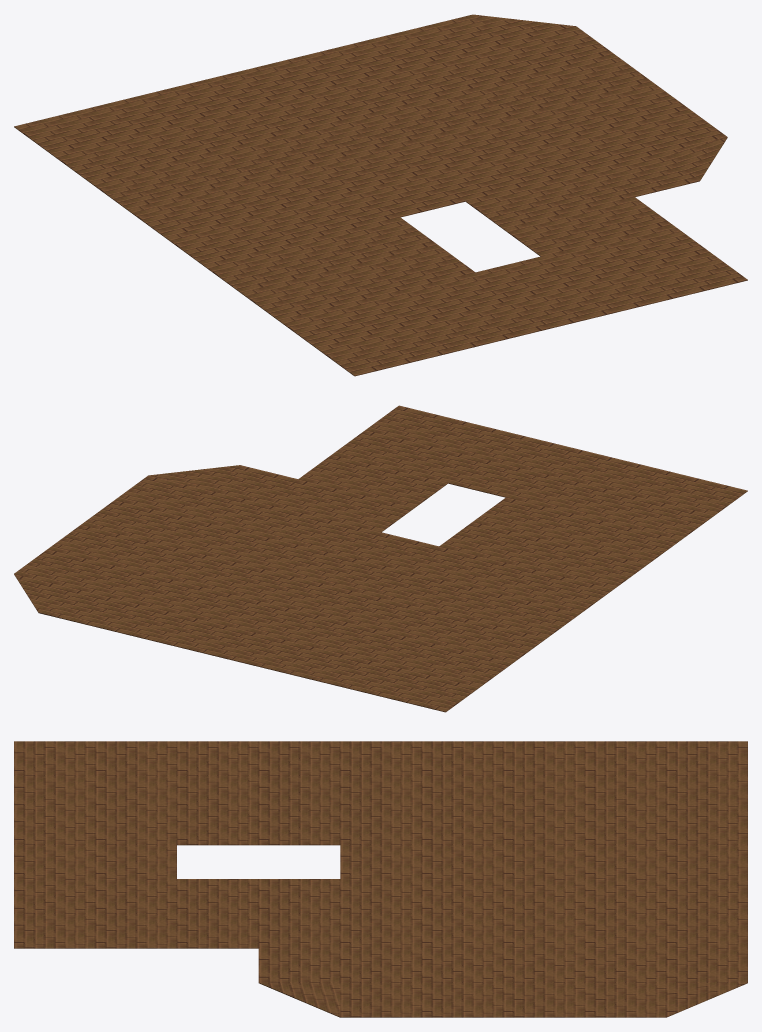
File: SM_TutorialIsland_A_F2.fbx
3 renders of one model, top to bottom at view 1: azimuth 30°, elevation 25°; view 2: azimuth 150°, elevation 25°; view 3: azimuth 270°, elevation 25°, orthographic. The views are drawn at different scales.
Visible parts, largest first — view 1: SM_TutorialIsland_A_F2; view 2: SM_TutorialIsland_A_F2; view 3: SM_TutorialIsland_A_F2.
Boxes of the visible parts, bbox=[...] form: SM_TutorialIsland_A_F2: bbox=[14, 14, 747, 376]; SM_TutorialIsland_A_F2: bbox=[14, 405, 747, 712]; SM_TutorialIsland_A_F2: bbox=[14, 741, 747, 1017].
Size of the model in its own units: 800 by 1 by 900.
1 material, 1 textured.
